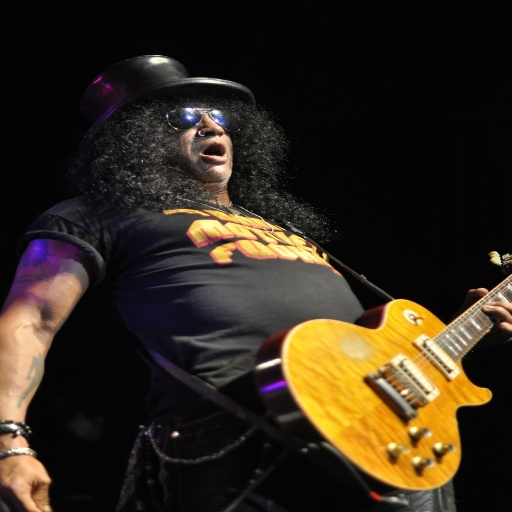hand: (463, 286, 511, 339), (0, 456, 45, 512)
